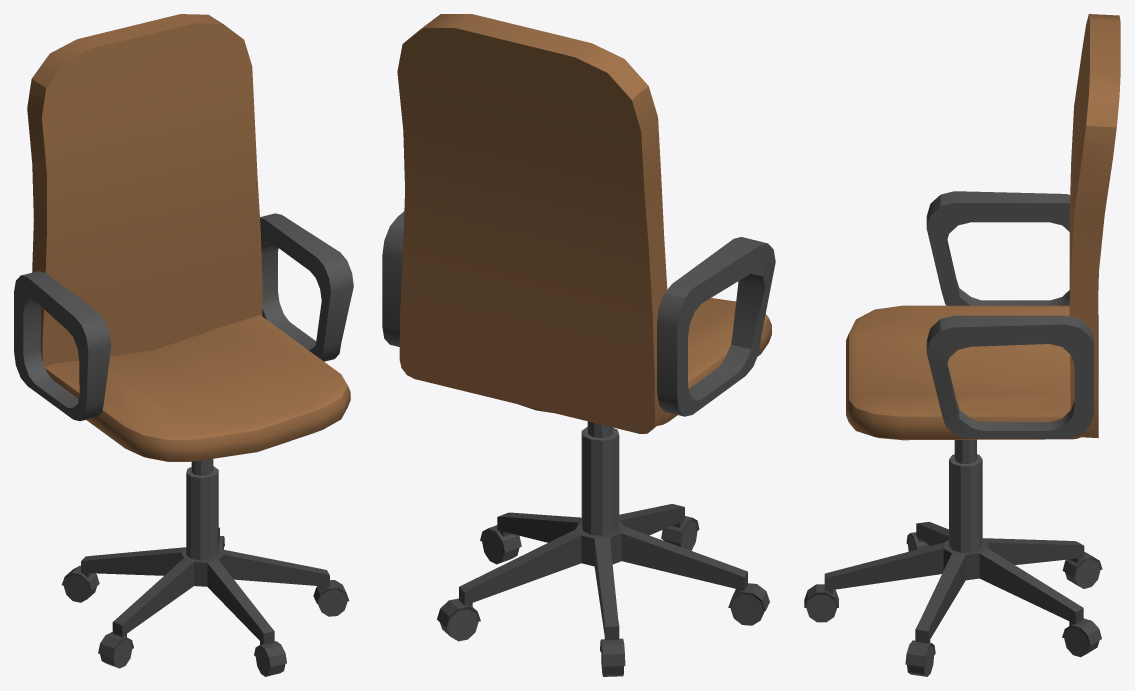
File: SM_Props_Furniture_07.fbx
3 renders of one model, left to right at view 1: azimuth 30°, elevation 25°; view 2: azimuth 150°, elevation 25°; view 3: azimuth 270°, elevation 25°, orthographic. The views are drawn at different scales.
Parts seen in each view (by area): view 1: SM_Props_Furniture_07; view 2: SM_Props_Furniture_07; view 3: SM_Props_Furniture_07.
Boxes of the visible parts, x1,y1,x2,y2 form: SM_Props_Furniture_07: (14, 14, 353, 676); SM_Props_Furniture_07: (382, 14, 775, 676); SM_Props_Furniture_07: (804, 14, 1120, 676).
Size of the model in its own units: 0.5774 by 1.13 by 0.5669.
